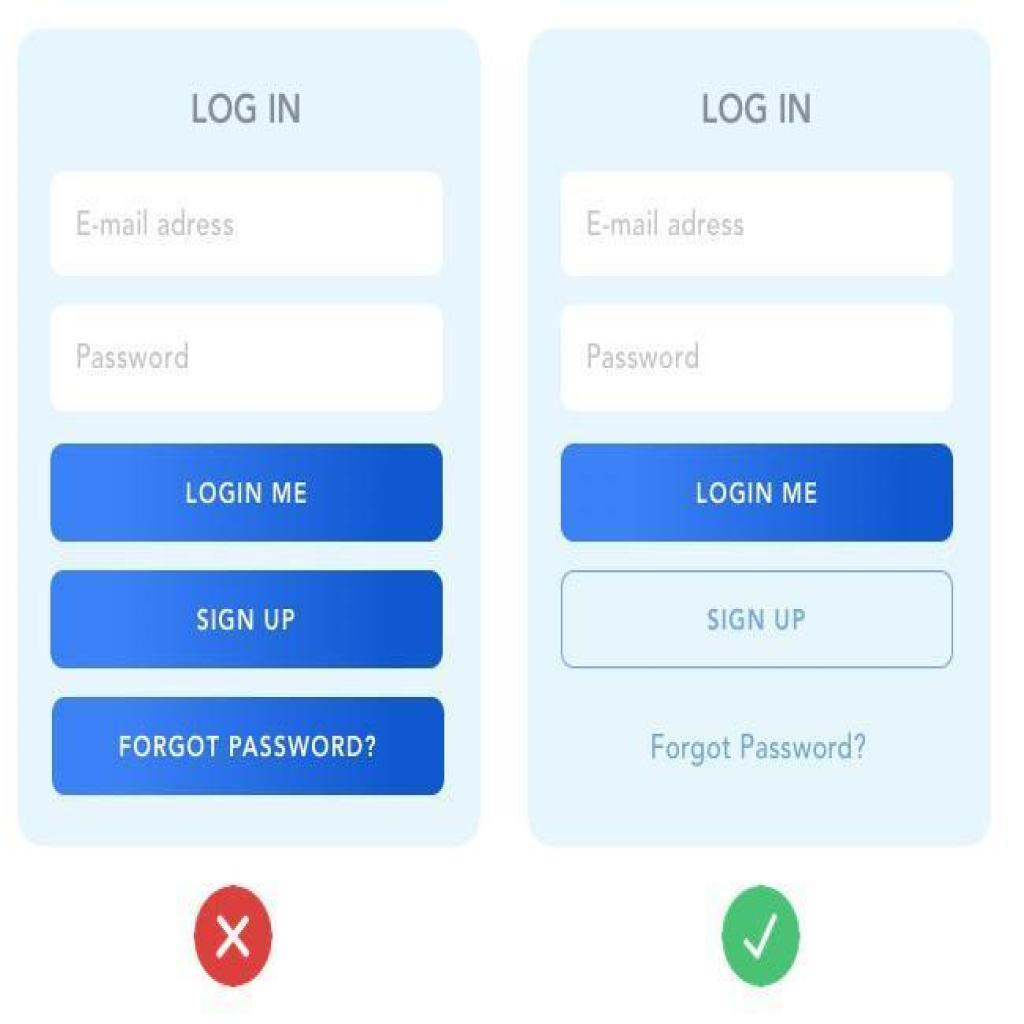button: (48, 566, 444, 668), (52, 695, 446, 797), (50, 444, 444, 544), (559, 444, 955, 542), (559, 570, 953, 666)
input: (561, 302, 955, 415), (50, 300, 443, 409), (559, 170, 953, 278), (49, 174, 441, 276)
label: (648, 726, 866, 768)
